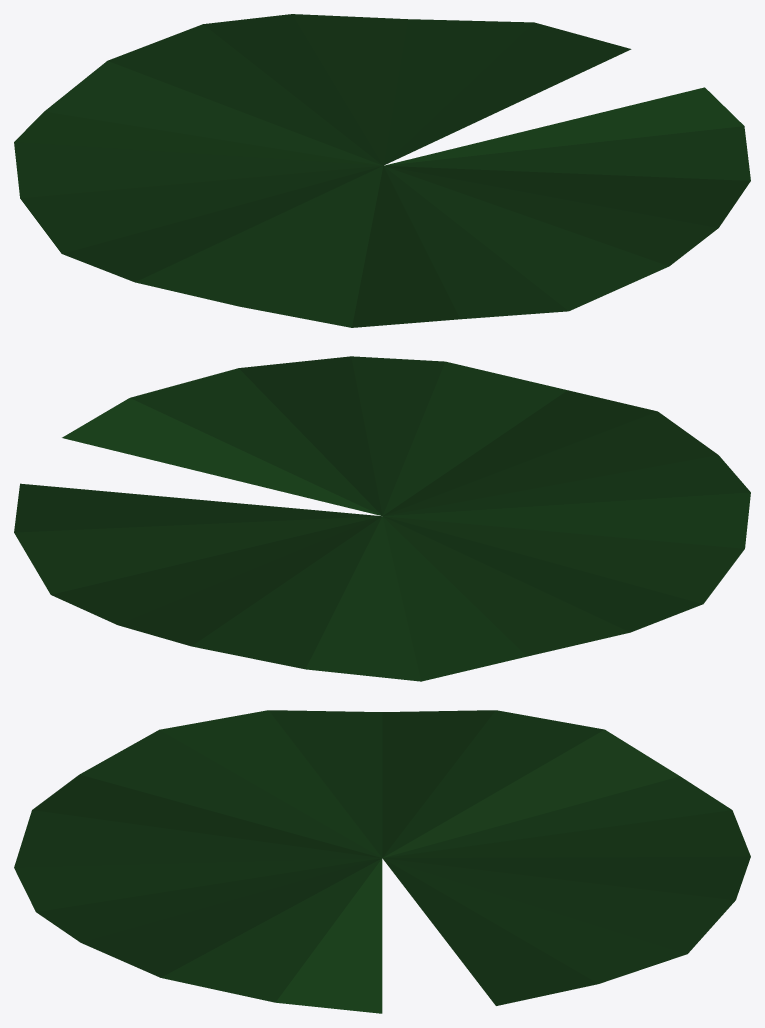
File: LillyPad.fbx
3 renders of one model, top to bottom at view 1: azimuth 30°, elevation 25°; view 2: azimuth 150°, elevation 25°; view 3: azimuth 270°, elevation 25°, orthographic.
Parts seen in each view (by area): view 1: pCylinder34; view 2: pCylinder34; view 3: pCylinder34.
Part boxes in pixels (<box>): pCylinder34: <box>14,14,750,327</box>; pCylinder34: <box>14,356,750,681</box>; pCylinder34: <box>14,710,750,1013</box>.
Bounding box in the file's own units: 9.52 × 0.1966 × 9.53.
